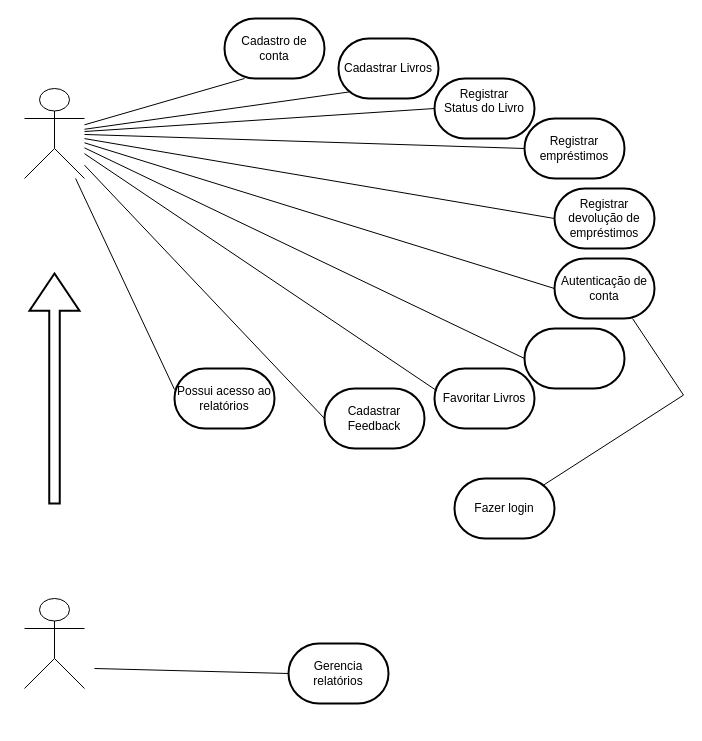
Image size: 702x741. Some labels were removed from this diagram. Here are the shapes that lost their labels. From the top down, the box of each, then its label:
(24, 88, 84, 178): Cliente
(523, 327, 625, 389): Cadastrar Categorias
(24, 598, 84, 688): Administrador
